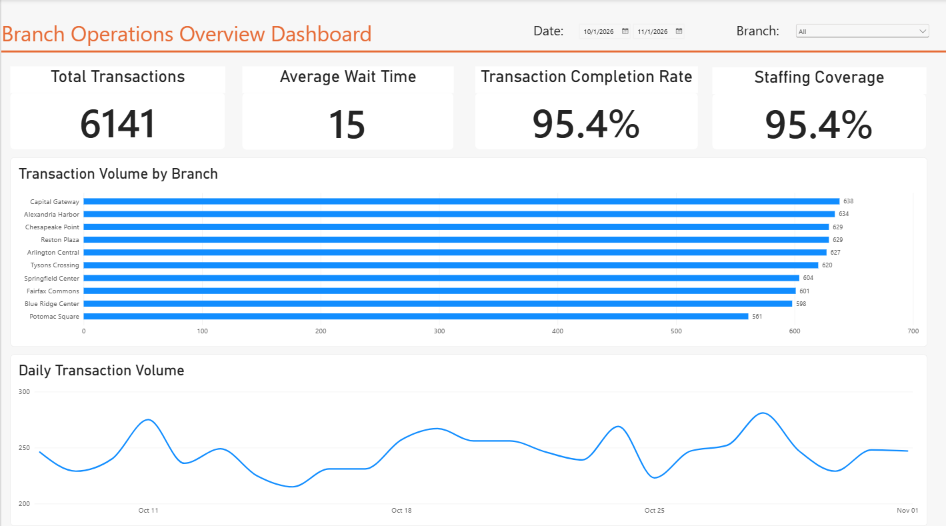

This screenshot's page, from the dashboard's own definition file:
{"tool":"powerbi","page":{"name":"BOOD","canvas":[1920,1080],"ordinal":0},"visuals":[{"type":"shape","box":[0,0,1920,211.4],"z":0},{"type":"cardVisual","title":"Total Transactions","fields":{"Data":["Sum(public vw_daily_transaction_volume.transaction_count)"]},"box":[17.3,136.6,435.8,168.3],"z":1000},{"type":"cardVisual","title":"Average Wait Time","fields":{"Data":["Avg(public vw_average_wait_time.avg_wait_minutes)"]},"box":[489,136.6,428.6,169.7],"z":2000},{"type":"cardVisual","title":"Transaction Completion Rate","fields":{"Data":["DimDate.Completion Rate %"]},"box":[960.7,136.6,451.6,168.3],"z":3000},{"type":"cardVisual","title":"Staffing Coverage","fields":{"Data":["DimDate.Staffing Coverage parcentage"]},"box":[1442.5,138.1,433.8,166.4],"z":4000},{"type":"lineChart","title":"Daily Transaction Volume","fields":{"Category":["public vw_daily_transaction_volume.full_date.Variation.Date Hierarchy.Year"],"Y":["Sum(public vw_daily_transaction_volume.transaction_count)"]},"box":[17.3,720.5,1859.6,348],"z":5000},{"type":"clusteredBarChart","title":"Transaction Volume by Branch","fields":{"Category":["public vw_branch_operational_summary.branch_name"],"Y":["Sum(public vw_daily_transaction_volume.transaction_count)"]},"box":[17.3,320.7,1859.6,384],"z":6000},{"type":"slicer","title":"Select Branch","fields":{"Values":["public vw_branch_operational_summary.branch_name"]},"box":[1605.4,43.9,280.6,39.9],"z":7000},{"type":"slicer","title":"Select Date Range","fields":{"Values":["DimDate.Date"]},"box":[1163.8,43.9,240.7,51.9],"z":8000},{"type":"textbox","box":[0,38.6,791.4,67.8],"z":9000},{"type":"textbox","box":[1078.7,43.9,85.1,46.6],"z":9001},{"type":"textbox","box":[1490.3,44.6,101.4,44.6],"z":9002}]}

Visuals, with their boxes in screenshot pixels (x1, y1, x2, y2), scaled from the page's 1920x1080 canvas onto the 946x526 screenshot:
shape: <box>0,0,945,103</box>
"Total Transactions" cardVisual: <box>9,67,223,148</box>
"Average Wait Time" cardVisual: <box>241,67,452,149</box>
"Transaction Completion Rate" cardVisual: <box>473,67,696,148</box>
"Staffing Coverage" cardVisual: <box>711,67,924,148</box>
"Daily Transaction Volume" lineChart: <box>9,351,925,520</box>
"Transaction Volume by Branch" clusteredBarChart: <box>9,156,925,343</box>
"Select Branch" slicer: <box>791,21,929,41</box>
"Select Date Range" slicer: <box>573,21,692,47</box>
textbox: <box>0,19,390,52</box>
textbox: <box>531,21,573,44</box>
textbox: <box>734,22,784,43</box>
